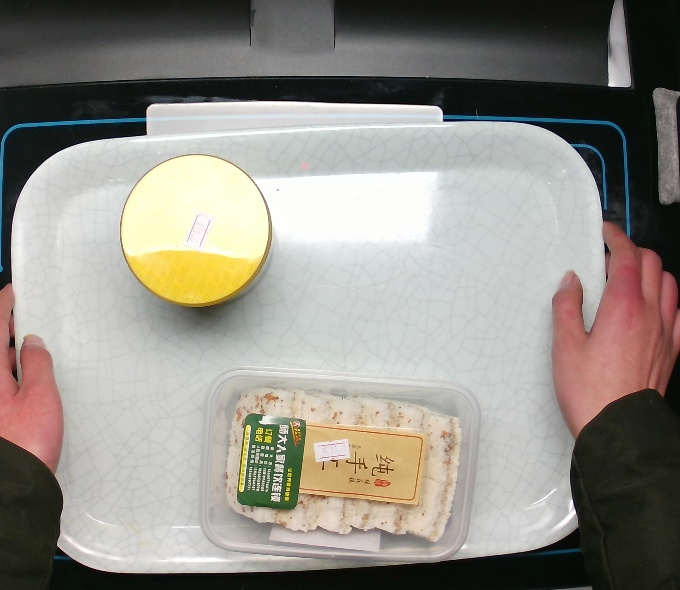wcq-GuiHuaGao: (192, 363, 485, 566)
wcq-MaiYaTang: (116, 151, 278, 312)
